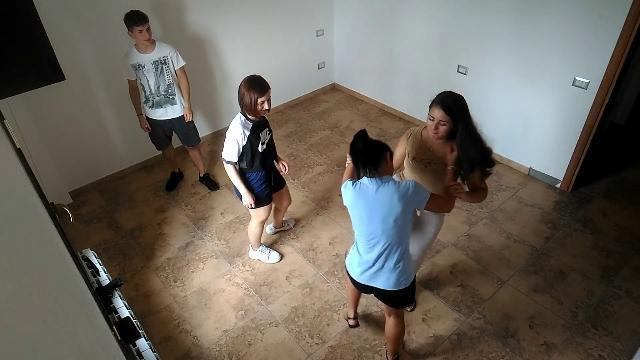non-violence: (122, 5, 222, 193), (222, 73, 300, 263)
violence: (339, 88, 498, 360)
